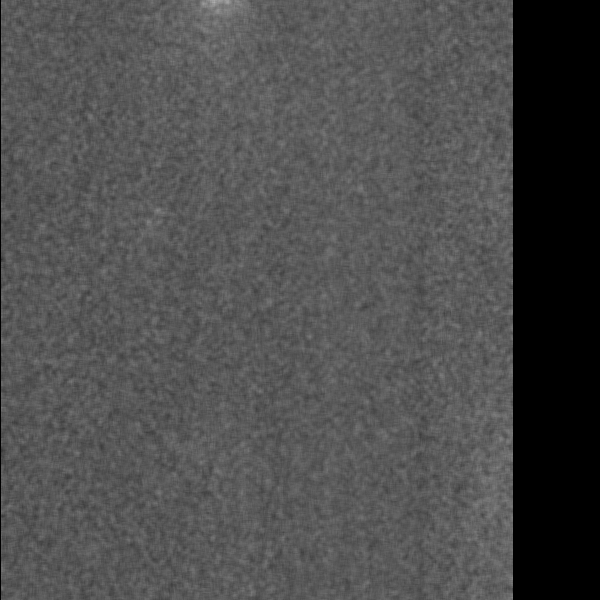spark: (159, 28, 227, 118), (125, 342, 156, 420), (301, 500, 328, 584), (418, 9, 459, 53), (20, 13, 51, 57), (89, 424, 132, 450)
